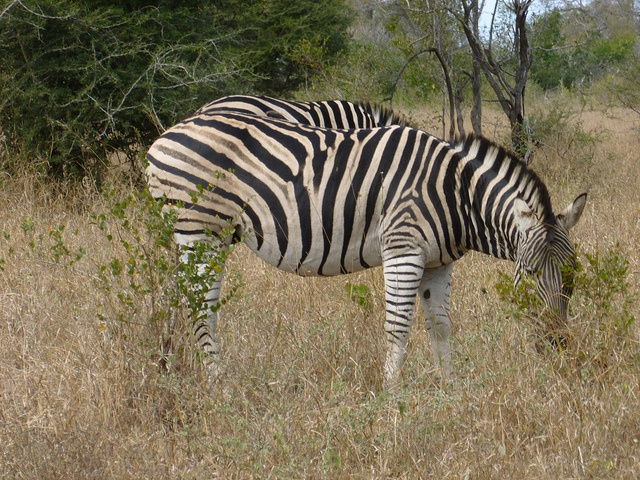zebra: (142, 109, 590, 392)
